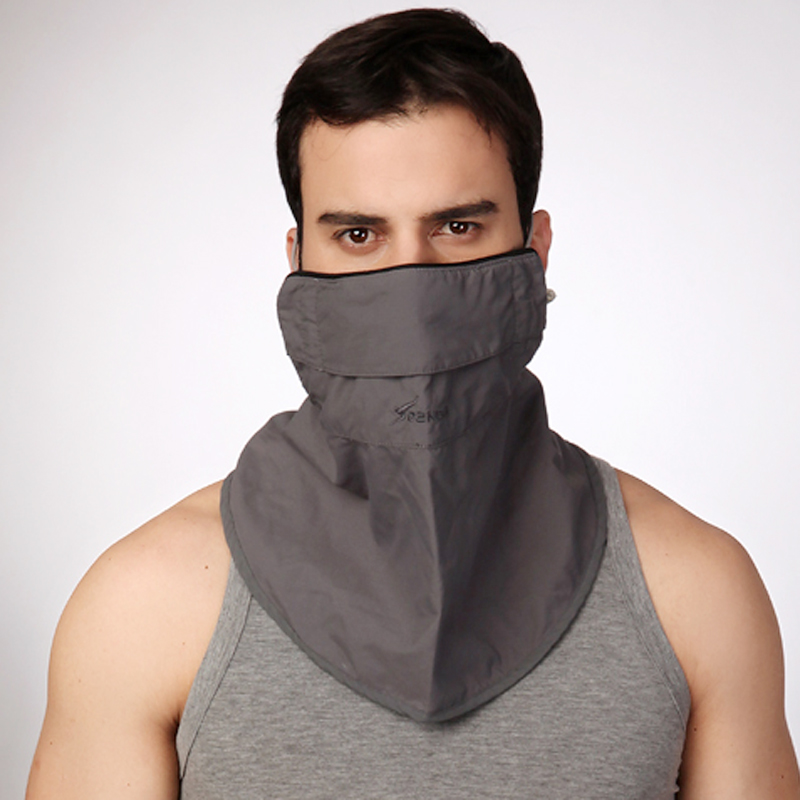face_mask: (297, 106, 521, 404)
